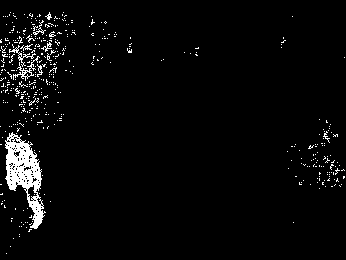person: (6, 133, 44, 232)
